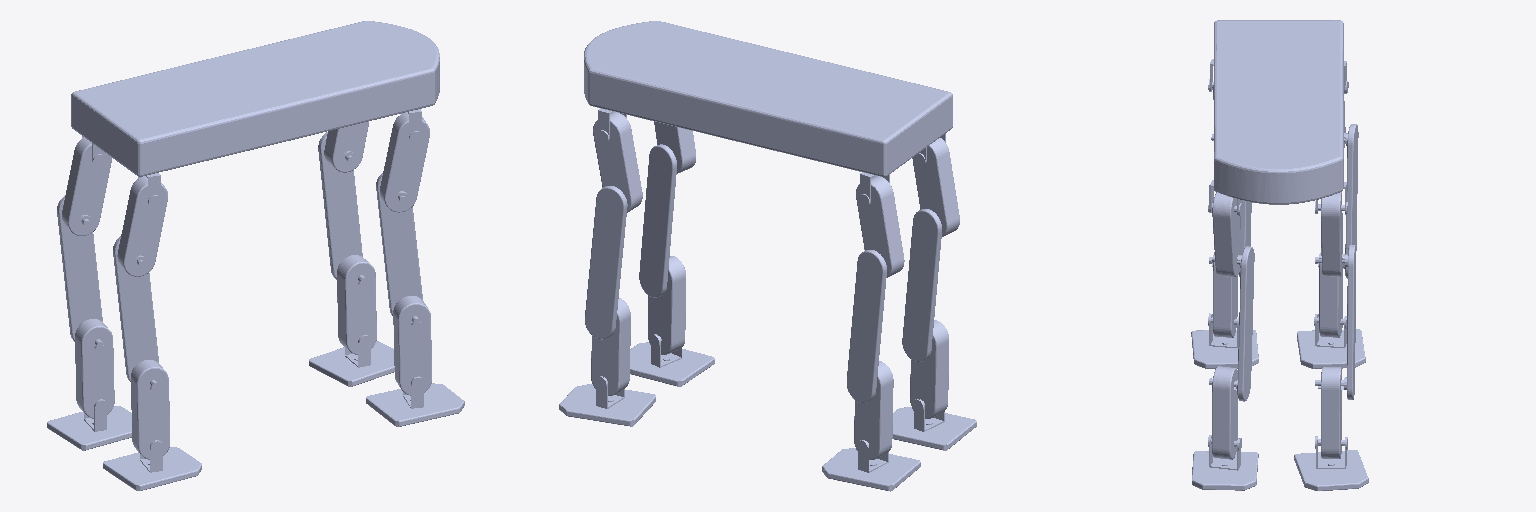
--- What the picture shows (computed from the rendered views, not written in the file) ---
The picture shows the robot from 3 angles, left to right: view 1: azimuth 30°, elevation 25°; view 2: azimuth 150°, elevation 25°; view 3: azimuth 270°, elevation 25°; orthographic projection.
Robot: quad_robot — 26 links, 25 joints (24 revolute, 1 fixed); root link dummy_link; default pose: every joint at zero.
Visible links, largest first — view 1: platform, fl_limb_2, rl_limb_2, rr_limb_2, rr_limb_1, fr_limb_2, fl_leg, rr_leg, rl_leg, fr_leg, fr_limb_1, rl_limb_1 (+5 smaller); view 2: platform, fl_leg, rl_leg, rr_leg, fr_leg, rl_limb_1, fl_limb_1, rr_limb_1, fr_limb_2, rr_limb_2, rl_limb_2, fl_limb_2 (+5 smaller); view 3: platform, fr_limb_2, fr_limb_1, fl_foot, fr_leg, fl_limb_2, fr_foot, fl_limb_1, rl_foot, rr_limb_2, rl_limb_2, rr_foot (+2 smaller).
Link boxes in pixels (x1,y1,x2,y2): platform: [71, 21, 439, 176]; fl_limb_2: [337, 255, 376, 354]; rl_limb_2: [75, 319, 114, 418]; rr_limb_2: [131, 360, 169, 459]; rr_limb_1: [117, 176, 167, 276]; fr_limb_2: [393, 296, 431, 395]; fl_leg: [318, 132, 362, 279]; rr_leg: [113, 236, 158, 381]; rl_leg: [57, 196, 102, 341]; fr_leg: [376, 173, 422, 315]; fr_limb_1: [380, 112, 429, 212]; rl_limb_1: [62, 137, 111, 235]; platform: [584, 21, 952, 176]; fl_leg: [585, 186, 627, 339]; rl_leg: [847, 250, 886, 402]; rr_leg: [902, 209, 941, 361]; fr_leg: [639, 144, 676, 297]; rl_limb_1: [856, 176, 904, 277]; fl_limb_1: [593, 112, 642, 212]; rr_limb_1: [912, 138, 959, 236]; fr_limb_2: [648, 256, 685, 354]; rr_limb_2: [910, 320, 948, 418]; rl_limb_2: [854, 361, 893, 459]; fl_limb_2: [591, 298, 630, 395]; platform: [1214, 20, 1343, 204]; fr_limb_2: [1208, 366, 1241, 459]; fr_limb_1: [1208, 192, 1242, 276]; fl_foot: [1294, 450, 1368, 490]; fr_leg: [1236, 246, 1254, 401]; fl_limb_2: [1315, 367, 1347, 458]; fr_foot: [1192, 451, 1258, 490]; fl_limb_1: [1315, 192, 1347, 276]; rl_foot: [1297, 329, 1365, 368]; rr_limb_2: [1208, 252, 1237, 337]; rl_limb_2: [1314, 257, 1346, 337]; rr_foot: [1191, 330, 1258, 368].
Bounding box of the posed robot: 0.5755 × 0.2724 × 0.547 m (x, y, z).
25 mesh visuals loaded from 25 distinct referenced files (25 binary STL).

URDF robot description (quad_robot):
<?xml version="1.0" encoding="utf-8"?>
<!-- This URDF was automatically created by SolidWorks to URDF Exporter! Originally created by Stephen Brawner ([email redacted]) 
     Commit Version: 1.6.0-1-g15f4949  Build Version: 1.6.7594.29634
     For more information, please see http://wiki.ros.org/sw_urdf_exporter -->
<robot
  name="quad_robot">
  <link name = "dummy_link" />
  <joint 
    name = "dummy_link_to_base_link" 
    type = "fixed">
    <parent link ="dummy_link"/>
    <child link="platform" />
  </joint>
  <link
    name="platform">
    <inertial>
      <origin
        xyz="-0.000404521463038099 1.55559248288251E-07 -0.030004010830296"
        rpy="0 0 0" />
      <mass
        value="6.3842623426896" />
      <inertia
        ixx="0.0225857260546824"
        ixy="6.94010385554055E-07"
        ixz="-4.33144242592857E-07"
        iyy="0.15371694988574"
        iyz="2.00727743475506E-08"
        izz="0.172487203358036" />
    </inertial>
    <visual>
      <origin
        xyz="0 0 0"
        rpy="0 0 0" />
      <geometry>
        <mesh
          filename="package://quad_robot/meshes/platform.STL" />
      </geometry>
      <material
        name="">
        <color
          rgba="0.792156862745098 0.819607843137255 0.933333333333333 1" />
      </material>
    </visual>
    <collision>
      <origin
        xyz="0 0 0"
        rpy="0 0 0" />
      <geometry>
        <mesh
          filename="package://quad_robot/meshes/platform.STL" />
      </geometry>
    </collision>
  </link>
  <link
    name="rr_holder">
    <inertial>
      <origin
        xyz="-0.238494199485119 -0.0815020141321888 -0.0756887494122581"
        rpy="0 0 0" />
      <mass
        value="0.00515488935718906" />
      <inertia
        ixx="3.05807746521344E-06"
        ixy="-3.22157921560896E-07"
        ixz="-5.33264112161002E-12"
        iyy="1.40675274264012E-06"
        iyz="1.00350684957577E-12"
        izz="2.12527288341703E-06" />
    </inertial>
    <visual>
      <origin
        xyz="0 0 0"
        rpy="0 0 0" />
      <geometry>
        <mesh
          filename="package://quad_robot/meshes/rr_holder.STL" />
      </geometry>
      <material
        name="">
        <color
          rgba="0.792156862745098 0.819607843137255 0.933333333333333 1" />
      </material>
    </visual>
    <collision>
      <origin
        xyz="0 0 0"
        rpy="0 0 0" />
      <geometry>
        <mesh
          filename="package://quad_robot/meshes/rr_holder.STL" />
      </geometry>
    </collision>
  </link>
  <joint
    name="rr_h"
    type="revolute">
    <origin
      xyz="0 0 0"
      rpy="0 0 0" />
    <parent
      link="platform" />
    <child
      link="rr_holder" />
    <axis
      xyz="0 0 1" />
    <dynamics damping="5" friction="0.1"/>
    <limit
      lower="-.0802851455917" upper="0.802851455917" effort="100" velocity="52" />
  </joint>
  <link
    name="rr_limb_1">
    <inertial>
      <origin
        xyz="-0.248134188948376 -0.0796879420349015 -0.148924288686999"
        rpy="0 0 0" />
      <mass
        value="0.21296976073602" />
      <inertia
        ixx="0.000360488158606502"
        ixy="6.32513329522903E-06"
        ixz="-5.94227475856886E-05"
        iyy="0.00039290967701394"
        iyz="1.11822890207033E-05"
        izz="6.98952843512656E-05" />
    </inertial>
    <visual>
      <origin
        xyz="0 0 0"
        rpy="0 0 0" />
      <geometry>
        <mesh
          filename="package://quad_robot/meshes/rr_limb_1.STL" />
      </geometry>
      <material
        name="">
        <color
          rgba="0.792156862745098 0.819607843137255 0.933333333333333 1" />
      </material>
    </visual>
    <collision>
      <origin
        xyz="0 0 0"
        rpy="0 0 0" />
      <geometry>
        <mesh
          filename="package://quad_robot/meshes/rr_limb_1.STL" />
      </geometry>
    </collision>
  </link>
  <joint
    name="rr_l_1"
    type="revolute">
    <origin
      xyz="0 0 0"
      rpy="0 0 0" />
    <parent
      link="rr_holder" />
    <child
      link="rr_limb_1" />
    <axis
      xyz="0 1 0" />
    <dynamics damping="5" friction="0.1"/>
    <limit
      lower="-.0802851455917" upper="0.802851455917" effort="100" velocity="52" />
  </joint>
  <link
    name="rr_leg">
    <inertial>
      <origin
        xyz="-0.242181571909094 -0.0504910633303371 -0.297519759504035"
        rpy="0 0 0" />
      <mass
        value="0.121622617658033" />
      <inertia
        ixx="0.000594974818556612"
        ixy="5.15721880625251E-06"
        ixz="5.78616485724682E-05"
        iyy="0.000621409460116157"
        iyz="-1.08881115660724E-05"
        izz="3.07808764841848E-05" />
    </inertial>
    <visual>
      <origin
        xyz="0 0 0"
        rpy="0 0 0" />
      <geometry>
        <mesh
          filename="package://quad_robot/meshes/rr_leg.STL" />
      </geometry>
      <material
        name="">
        <color
          rgba="0.792156862745098 0.819607843137255 0.933333333333333 1" />
      </material>
    </visual>
    <collision>
      <origin
        xyz="0 0 0"
        rpy="0 0 0" />
      <geometry>
        <mesh
          filename="package://quad_robot/meshes/rr_leg.STL" />
      </geometry>
    </collision>
  </link>
  <joint
    name="rr_lg"
    type="revolute">
    <origin
      xyz="0 0 0"
      rpy="0 0 0" />
    <parent
      link="rr_limb_1" />
    <child
      link="rr_leg" />
    <axis
      xyz="0 1 0" />
    <dynamics damping="5" friction="0.1"/>
    <limit
      lower="-.0802851455917" upper="0.802851455917" effort="100" velocity="52" />
  </joint>
  <link
    name="rr_limb_2">
    <inertial>
      <origin
        xyz="-0.236456510749618 -0.0818854703892081 -0.447076797449636"
        rpy="0 0 0" />
      <mass
        value="0.21296976073602" />
      <inertia
        ixx="0.000372044506595302"
        ixy="4.15043709747706E-06"
        ixz="6.95322325328733E-06"
        iyy="0.000393318915603597"
        iyz="-1.30847116977759E-06"
        izz="5.79296977728092E-05" />
    </inertial>
    <visual>
      <origin
        xyz="0 0 0"
        rpy="0 0 0" />
      <geometry>
        <mesh
          filename="package://quad_robot/meshes/rr_limb_2.STL" />
      </geometry>
      <material
        name="">
        <color
          rgba="0.792156862745098 0.819607843137255 0.933333333333333 1" />
      </material>
    </visual>
    <collision>
      <origin
        xyz="0 0 0"
        rpy="0 0 0" />
      <geometry>
        <mesh
          filename="package://quad_robot/meshes/rr_limb_2.STL" />
      </geometry>
    </collision>
  </link>
  <joint
    name="rr_l_2"
    type="revolute">
    <origin
      xyz="0 0 0"
      rpy="0 0 0" />
    <parent
      link="rr_leg" />
    <child
      link="rr_limb_2" />
    <axis
      xyz="0 1 0" />
    <dynamics damping="5" friction="0.1"/>
    <limit
      lower="-.0802851455917" upper="0.802851455917" effort="100" velocity="52" />
  </joint>
  <link
    name="rr_ankle">
    <inertial>
      <origin
        xyz="-0.235348473725713 -0.0820939829664886 -0.521273251123116"
        rpy="0 0 0" />
      <mass
        value="0.00515488935718909" />
      <inertia
        ixx="3.05807746521347E-06"
        ixy="-3.22157921560815E-07"
        ixz="-5.33264111715663E-12"
        iyy="1.4067527426401E-06"
        iyz="1.00350687053264E-12"
        izz="2.12527288341703E-06" />
    </inertial>
    <visual>
      <origin
        xyz="0 0 0"
        rpy="0 0 0" />
      <geometry>
        <mesh
          filename="package://quad_robot/meshes/rr_ankle.STL" />
      </geometry>
      <material
        name="">
        <color
          rgba="0.792156862745098 0.819607843137255 0.933333333333333 1" />
      </material>
    </visual>
    <collision>
      <origin
        xyz="0 0 0"
        rpy="0 0 0" />
      <geometry>
        <mesh
          filename="package://quad_robot/meshes/rr_ankle.STL" />
      </geometry>
    </collision>
  </link>
  <joint
    name="rr_a"
    type="revolute">
    <origin
      xyz="0 0 0"
      rpy="0 0 0" />
    <parent
      link="rr_limb_2" />
    <child
      link="rr_ankle" />
    <axis
      xyz="0 1 0" />
    <dynamics damping="5" friction="0.1"/>
    <limit
      lower="-.0802851455917" upper="0.802851455917" effort="100" velocity="52" />
  </joint>
  <link
    name="rr_foot">
    <inertial>
      <origin
        xyz="-0.23031925599362 -0.0818990173256983 -0.541949434470829"
        rpy="0 0 0" />
      <mass
        value="0.118752898458627" />
      <inertia
        ixx="9.54012922298925E-05"
        ixy="-1.84130352891303E-06"
        ixz="7.49104668898364E-09"
        iyy="0.000142315843287418"
        iyz="2.91535649487141E-10"
        izz="0.000235735578259086" />
    </inertial>
    <visual>
      <origin
        xyz="0 0 0"
        rpy="0 0 0" />
      <geometry>
        <mesh
          filename="package://quad_robot/meshes/rr_foot.STL" />
      </geometry>
      <material
        name="">
        <color
          rgba="0.792156862745098 0.819607843137255 0.933333333333333 1" />
      </material>
    </visual>
    <collision>
      <origin
        xyz="0 0 0"
        rpy="0 0 0" />
      <geometry>
        <mesh
          filename="package://quad_robot/meshes/rr_foot.STL" />
      </geometry>
    </collision>
  </link>
  <joint
    name="rr_f"
    type="revolute">
    <origin
      xyz="0 0 0"
      rpy="0 0 0" />
    <parent
      link="rr_ankle" />
    <child
      link="rr_foot" />
    <axis
      xyz="0 0 1" />
    <dynamics damping="5" friction="0.1"/>
    <limit
      lower="-.0802851455917" upper="0.802851455917" effort="100" velocity="52" />
  </joint>
  <link
    name="rl_holder">
    <inertial>
      <origin
        xyz="-0.238494162584761 0.0814998220732433 -0.0756887494122585"
        rpy="0 0 0" />
      <mass
        value="0.00515488935718906" />
      <inertia
        ixx="3.07166739379566E-06"
        ixy="-2.84885336968667E-07"
        ixz="-5.35376527780618E-12"
        iyy="1.39316281405791E-06"
        iyz="8.83903092806172E-13"
        izz="2.12527288341704E-06" />
    </inertial>
    <visual>
      <origin
        xyz="0 0 0"
        rpy="0 0 0" />
      <geometry>
        <mesh
          filename="package://quad_robot/meshes/rl_holder.STL" />
      </geometry>
      <material
        name="">
        <color
          rgba="0.792156862745098 0.819607843137255 0.933333333333333 1" />
      </material>
    </visual>
    <collision>
      <origin
        xyz="0 0 0"
        rpy="0 0 0" />
      <geometry>
        <mesh
          filename="package://quad_robot/meshes/rl_holder.STL" />
      </geometry>
    </collision>
  </link>
  <joint
    name="rl_h"
    type="revolute">
    <origin
      xyz="0 0 0"
      rpy="0 0 0" />
    <parent
      link="platform" />
    <child
      link="rl_holder" />
    <axis
      xyz="0 0 1" />
    <dynamics damping="5" friction="0.1"/>
    <limit
      lower="-.0802851455917" upper="0.802851455917" effort="100" velocity="52" />
  </joint>
  <link
    name="rl_limb_1">
    <inertial>
      <origin
        xyz="-0.248172338875066 0.0830976825551536 -0.148924288686999"
        rpy="0 0 0" />
      <mass
        value="0.21296976073602" />
      <inertia
        ixx="0.000360221338814089"
        ixy="5.59333671341162E-06"
        ixz="-5.96581385260299E-05"
        iyy="0.000393176496806354"
        iyz="9.84951907374344E-06"
        izz="6.98952843512656E-05" />
    </inertial>
    <visual>
      <origin
        xyz="0 0 0"
        rpy="0 0 0" />
      <geometry>
        <mesh
          filename="package://quad_robot/meshes/rl_limb_1.STL" />
      </geometry>
      <material
        name="">
        <color
          rgba="0.792156862745098 0.819607843137255 0.933333333333333 1" />
      </material>
    </visual>
    <collision>
      <origin
        xyz="0 0 0"
        rpy="0 0 0" />
      <geometry>
        <mesh
          filename="package://quad_robot/meshes/rl_limb_1.STL" />
      </geometry>
    </collision>
  </link>
  <joint
    name="rl_l_1"
    type="revolute">
    <origin
      xyz="0 0 0"
      rpy="0 0 0" />
    <parent
      link="rl_holder" />
    <child
      link="rl_limb_1" />
    <axis
      xyz="0 1 0" />
    <dynamics damping="5" friction="0.1"/>
    <limit
      lower="-.0802851455917" upper="0.802851455917" effort="100" velocity="52" />
  </joint>
  <link
    name="rl_leg">
    <inertial>
      <origin
        xyz="-0.242874685937131 0.112420479938591 -0.29751979335549"
        rpy="0 0 0" />
      <mass
        value="0.121622602465425" />
      <inertia
        ixx="0.000594756948498601"
        ixy="4.5605738995501E-06"
        ixz="5.80908387093824E-05"
        iyy="0.000621626804231193"
        iyz="-9.5903449118726E-06"
        izz="3.07809933348623E-05" />
    </inertial>
    <visual>
      <origin
        xyz="0 0 0"
        rpy="0 0 0" />
      <geometry>
        <mesh
          filename="package://quad_robot/meshes/rl_leg.STL" />
      </geometry>
      <material
        name="">
        <color
          rgba="0.792156862745098 0.819607843137255 0.933333333333333 1" />
      </material>
    </visual>
    <collision>
      <origin
        xyz="0 0 0"
        rpy="0 0 0" />
      <geometry>
        <mesh
          filename="package://quad_robot/meshes/rl_leg.STL" />
      </geometry>
    </collision>
  </link>
  <joint
    name="rl_lg"
    type="revolute">
    <origin
      xyz="0 0 0"
      rpy="0 0 0" />
    <parent
      link="rl_limb_1" />
    <child
      link="rl_leg" />
    <axis
      xyz="0 1 0" />
    <dynamics damping="5" friction="0.1"/>
    <limit
      lower="-.0802851455917" upper="0.802851455917" effort="100" velocity="52" />
  </joint>
  <link
    name="rl_limb_2">
    <inertial>
      <origin
        xyz="-0.236448401966236 0.081162068353018 -0.447076797449636"
        rpy="0 0 0" />
      <mass
        value="0.21296976073602" />
      <inertia
        ixx="0.000371869424314331"
        ixy="3.6702455285071E-06"
        ixz="6.98076701096459E-06"
        iyy="0.000393493997884568"
        iyz="-1.15252000018338E-06"
        izz="5.79296977728093E-05" />
    </inertial>
    <visual>
      <origin
        xyz="0 0 0"
        rpy="0 0 0" />
      <geometry>
        <mesh
          filename="package://quad_robot/meshes/rl_limb_2.STL" />
      </geometry>
      <material
        name="">
        <color
          rgba="0.792156862745098 0.819607843137255 0.933333333333333 1" />
      </material>
    </visual>
    <collision>
      <origin
        xyz="0 0 0"
        rpy="0 0 0" />
      <geometry>
        <mesh
          filename="package://quad_robot/meshes/rl_limb_2.STL" />
      </geometry>
    </collision>
  </link>
  <joint
    name="rl_l_2"
    type="revolute">
    <origin
      xyz="0 0 0"
      rpy="0 0 0" />
    <parent
      link="rl_leg" />
    <child
      link="rl_limb_2" />
    <axis
      xyz="0 1 0" />
    <dynamics damping="5" friction="0.1"/>
    <limit
      lower="-.0802851455917" upper="0.802851455917" effort="100" velocity="52" />
  </joint>
  <link
    name="rl_ankle">
    <inertial>
      <origin
        xyz="-0.235335975682534 0.0809784075119089 -0.521273251123117"
        rpy="0 0 0" />
      <mass
        value="0.0051548893571891" />
      <inertia
        ixx="3.07166739379569E-06"
        ixy="-2.84885336968587E-07"
        ixz="-5.35376527267342E-12"
        iyy="1.39316281405789E-06"
        iyz="8.83903117374331E-13"
        izz="2.12527288341704E-06" />
    </inertial>
    <visual>
      <origin
        xyz="0 0 0"
        rpy="0 0 0" />
      <geometry>
        <mesh
          filename="package://quad_robot/meshes/rl_ankle.STL" />
      </geometry>
      <material
        name="">
        <color
          rgba="0.792156862745098 0.819607843137255 0.933333333333333 1" />
      </material>
    </visual>
    <collision>
      <origin
        xyz="0 0 0"
        rpy="0 0 0" />
      <geometry>
        <mesh
          filename="package://quad_robot/meshes/rl_ankle.STL" />
      </geometry>
    </collision>
  </link>
  <joint
    name="rl_a"
    type="revolute">
    <origin
      xyz="0 0 0"
      rpy="0 0 0" />
    <parent
      link="rl_limb_2" />
    <child
      link="rl_ankle" />
    <axis
      xyz="0 1 0" />
    <dynamics damping="5" friction="0.1"/>
    <limit
      lower="-.0802851455917" upper="0.802851455917" effort="100" velocity="52" />
  </joint>
  <link
    name="rl_foot">
    <inertial>
      <origin
        xyz="-0.230312381371031 0.0812858856319446 -0.541949434469658"
        rpy="0 0 0" />
      <mass
        value="0.118752898459681" />
      <inertia
        ixx="9.55071946950773E-05"
        ixy="-2.88921269314964E-06"
        ixz="7.4826459185112E-09"
        iyy="0.000142209940820079"
        iyz="4.59123379443084E-10"
        izz="0.000235735578255168" />
    </inertial>
    <visual>
      <origin
        xyz="0 0 0"
        rpy="0 0 0" />
      <geometry>
        <mesh
          filename="package://quad_robot/meshes/rl_foot.STL" />
      </geometry>
      <material
        name="">
        <color
          rgba="0.792156862745098 0.819607843137255 0.933333333333333 1" />
      </material>
    </visual>
    <collision>
      <origin
        xyz="0 0 0"
        rpy="0 0 0" />
      <geometry>
        <mesh
          filename="package://quad_robot/meshes/rl_foot.STL" />
      </geometry>
    </collision>
  </link>
  <joint
    name="rl_f"
    type="revolute">
    <origin
      xyz="0 0 0"
      rpy="0 0 0" />
    <parent
      link="rl_ankle" />
    <child
      link="rl_foot" />
    <axis
      xyz="0 0 1" />
    <dynamics damping="5" friction="0.1"/>
    <limit
      lower="-.0802851455917" upper="0.802851455917" effort="100" velocity="52" />
  </joint>
  <link
    name="fr_holder">
    <inertial>
      <origin
        xyz="0.203932342616495 -0.0815026596614342 -0.0756887494122586"
        rpy="0 0 0" />
      <mass
        value="0.00515488935718896" />
      <inertia
        ixx="3.00520628905572E-06"
        ixy="-4.33932996506204E-07"
        ixz="-5.24964970682803E-12"
        iyy="1.45962391879779E-06"
        iyz="1.37304963369888E-12"
        izz="2.125272883417E-06" />
    </inertial>
    <visual>
      <origin
        xyz="0 0 0"
        rpy="0 0 0" />
      <geometry>
        <mesh
          filename="package://quad_robot/meshes/fr_holder.STL" />
      </geometry>
      <material
        name="">
        <color
          rgba="0.792156862745098 0.819607843137255 0.933333333333333 1" />
      </material>
    </visual>
    <collision>
      <origin
        xyz="0 0 0"
        rpy="0 0 0" />
      <geometry>
        <mesh
          filename="package://quad_robot/meshes/fr_holder.STL" />
      </geometry>
    </collision>
  </link>
  <joint
    name="fr_h"
    type="revolute">
    <origin
      xyz="0 0 0"
      rpy="0 0 0" />
    <parent
      link="platform" />
    <child
      link="fr_holder" />
    <axis
      xyz="0 0 1" />
    <dynamics damping="5" friction="0.1"/>
    <limit
      lower="-.0802851455917" upper="0.802851455917" effort="100" velocity="52" />
  </joint>
  <link
    name="fr_limb_1">
    <inertial>
      <origin
        xyz="0.194442379441527 -0.079020553023187 -0.148924288686999"
        rpy="0 0 0" />
      <mass
        value="0.21296976073602" />
      <inertia
        ixx="0.000361526212350619"
        ixy="8.51968509978573E-06"
        ixz="-5.84979567138807E-05"
        iyy="0.000391871623269825"
        iyz="1.53001823085856E-05"
        izz="6.98952843512657E-05" />
    </inertial>
    <visual>
      <origin
        xyz="0 0 0"
        rpy="0 0 0" />
      <geometry>
        <mesh
          filename="package://quad_robot/meshes/fr_limb_1.STL" />
      </geometry>
      <material
        name="">
        <color
          rgba="0.792156862745098 0.819607843137255 0.933333333333333 1" />
      </material>
    </visual>
    <collision>
      <origin
        xyz="0 0 0"
        rpy="0 0 0" />
      <geometry>
        <mesh
          filename="package://quad_robot/meshes/fr_limb_1.STL" />
      </geometry>
    </collision>
  </link>
  <joint
    name="fr_l_1"
    type="revolute">
    <origin
      xyz="0 0 0"
      rpy="0 0 0" />
    <parent
      link="fr_holder" />
    <child
      link="fr_limb_1" />
    <axis
      xyz="0 1 0" />
    <dynamics damping="5" friction="0.1"/>
    <limit
      lower="-.0802851455917" upper="0.802851455917" effort="100" velocity="52" />
  </joint>
  <link
    name="fr_leg">
    <inertial>
      <origin
        xyz="0.202417185237618 -0.0503100458690355 -0.297519649158803"
        rpy="0 0 0" />
      <mass
        value="0.121622666627107" />
      <inertia
        ixx="0.000595822205237659"
        ixy="6.94643414377528E-06"
        ixz="5.69611988815209E-05"
        iyy="0.000620563769201878"
        iyz="-1.48978616718951E-05"
        izz="3.07805003908677E-05" />
    </inertial>
    <visual>
      <origin
        xyz="0 0 0"
        rpy="0 0 0" />
      <geometry>
        <mesh
          filename="package://quad_robot/meshes/fr_leg.STL" />
      </geometry>
      <material
        name="">
        <color
          rgba="0.792156862745098 0.819607843137255 0.933333333333333 1" />
      </material>
    </visual>
    <collision>
      <origin
        xyz="0 0 0"
        rpy="0 0 0" />
      <geometry>
        <mesh
          filename="package://quad_robot/meshes/fr_leg.STL" />
      </geometry>
    </collision>
  </link>
  <joint
    name="fr_lg"
    type="revolute">
    <origin
      xyz="0 0 0"
      rpy="0 0 0" />
    <parent
      link="fr_limb_1" />
    <child
      link="fr_leg" />
    <axis
      xyz="0 1 0" />
    <dynamics damping="5" friction="0.1"/>
    <limit
      lower="-.0802851455917" upper="0.802851455917" effort="100" velocity="52" />
  </joint>
  <link
    name="fr_limb_2">
    <inertial>
      <origin
        xyz="0.205938318985629 -0.0820273242117023 -0.447076797449636"
        rpy="0 0 0" />
      <mass
        value="0.21296976073602" />
      <inertia
        ixx="0.000372725658528021"
        ixy="5.59046196285525E-06"
        ixz="6.84501086568127E-06"
        iyy="0.000392637763670877"
        iyz="-1.79031747489102E-06"
        izz="5.79296977728094E-05" />
    </inertial>
    <visual>
      <origin
        xyz="0 0 0"
        rpy="0 0 0" />
      <geometry>
        <mesh
          filename="package://quad_robot/meshes/fr_limb_2.STL" />
      </geometry>
      <material
        name="">
        <color
          rgba="0.792156862745098 0.819607843137255 0.933333333333333 1" />
      </material>
    </visual>
    <collision>
      <origin
        xyz="0 0 0"
        rpy="0 0 0" />
      <geometry>
        <mesh
          filename="package://quad_robot/meshes/fr_limb_2.STL" />
      </geometry>
    </collision>
  </link>
  <joint
    name="fr_l_2"
    type="revolute">
    <origin
      xyz="0 0 0"
      rpy="0 0 0" />
    <parent
      link="fr_leg" />
    <child
      link="fr_limb_2" />
    <axis
      xyz="0 1 0" />
    <dynamics damping="5" friction="0.1"/>
    <limit
      lower="-.0802851455917" upper="0.802851455917" effort="100" velocity="52" />
  </joint>
  <link
    name="fr_ankle">
    <inertial>
      <origin
        xyz="0.207029111729068 -0.0823126218318973 -0.521273251123117"
        rpy="0 0 0" />
      <mass
        value="0.00515488935718909" />
      <inertia
        ixx="3.0052062890558E-06"
        ixy="-4.33932996506133E-07"
        ixz="-5.24964970222134E-12"
        iyy="1.45962391879777E-06"
        iyz="1.37304964079705E-12"
        izz="2.12527288341703E-06" />
    </inertial>
    <visual>
      <origin
        xyz="0 0 0"
        rpy="0 0 0" />
      <geometry>
        <mesh
          filename="package://quad_robot/meshes/fr_ankle.STL" />
      </geometry>
      <material
        name="">
        <color
          rgba="0.792156862745098 0.819607843137255 0.933333333333333 1" />
      </material>
    </visual>
    <collision>
      <origin
        xyz="0 0 0"
        rpy="0 0 0" />
      <geometry>
        <mesh
          filename="package://quad_robot/meshes/fr_ankle.STL" />
      </geometry>
    </collision>
  </link>
  <joint
    name="fr_a"
    type="revolute">
    <origin
      xyz="0 0 0"
      rpy="0 0 0" />
    <parent
      link="fr_limb_2" />
    <child
      link="fr_ankle" />
    <axis
      xyz="0 1 0" />
    <dynamics damping="5" friction="0.1"/>
    <limit
      lower="-.0802851455917" upper="0.802851455917" effort="100" velocity="52" />
  </joint>
  <link
    name="fr_foot">
    <inertial>
      <origin
        xyz="0.212059678623147 -0.0824689525968437 -0.541949434474741"
        rpy="0 0 0" />
      <mass
        value="0.11875289846178" />
      <inertia
        ixx="9.53733174678496E-05"
        ixy="1.44124688472087E-06"
        ixz="7.49313297943832E-09"
        iyy="0.000142343818059201"
        iyz="-2.31724904842528E-10"
        izz="0.000235735578270093" />
    </inertial>
    <visual>
      <origin
        xyz="0 0 0"
        rpy="0 0 0" />
      <geometry>
        <mesh
          filename="package://quad_robot/meshes/fr_foot.STL" />
      </geometry>
      <material
        name="">
        <color
          rgba="0.792156862745098 0.819607843137255 0.933333333333333 1" />
      </material>
    </visual>
    <collision>
      <origin
        xyz="0 0 0"
        rpy="0 0 0" />
      <geometry>
        <mesh
          filename="package://quad_robot/meshes/fr_foot.STL" />
      </geometry>
    </collision>
  </link>
  <joint
    name="fr_f"
    type="revolute">
    <origin
      xyz="0 0 0"
      rpy="0 0 0" />
    <parent
      link="fr_ankle" />
    <child
      link="fr_foot" />
    <axis
      xyz="0 0 1" />
    <dynamics damping="5" friction="0.1"/>
    <limit
      lower="-.0802851455917" upper="0.802851455917" effort="100" velocity="52" />
  </joint>
  <link
    name="fl_holder">
    <inertial>
      <origin
        xyz="0.203932629848036 0.0815007318597151 -0.075688749412258"
        rpy="0 0 0" />
      <mass
        value="0.00515488935718911" />
      <inertia
        ixx="3.11076550435148E-06"
        ixy="-1.18341181943071E-07"
        ixz="-5.41407965390396E-12"
        iyy="1.35406470350209E-06"
        iyz="3.63082356285333E-13"
        izz="2.12527288341704E-06" />
    </inertial>
    <visual>
      <origin
        xyz="0 0 0"
        rpy="0 0 0" />
      <geometry>
        <mesh
          filename="package://quad_robot/meshes/fl_holder.STL" />
      </geometry>
      <material
        name="">
        <color
          rgba="0.792156862745098 0.819607843137255 0.933333333333333 1" />
      </material>
    </visual>
    <collision>
      <origin
        xyz="0 0 0"
        rpy="0 0 0" />
      <geometry>
        <mesh
          filename="package://quad_robot/meshes/fl_holder.STL" />
      </geometry>
    </collision>
  </link>
  <joint
    name="fl_h"
    type="revolute">
    <origin
      xyz="0 0 0"
      rpy="0 0 0" />
    <parent
      link="platform" />
    <child
      link="fl_holder" />
    <axis
      xyz="0 0 1" />
    <dynamics damping="5" friction="0.1"/>
    <limit
      lower="-.0802851455917" upper="0.802851455917" effort="100" velocity="52" />
  </joint>
  <link
    name="fl_limb_1">
    <inertial>
      <origin
        xyz="0.194145421285326 0.0821570876899501 -0.148924288686999"
        rpy="0 0 0" />
      <mass
        value="0.21296976073602" />
      <inertia
        ixx="0.000359453700509066"
        ixy="2.32346839859645E-06"
        ixz="-6.03302344060178E-05"
        iyy="0.000393944135111378"
        iyz="4.04590347017151E-06"
        izz="6.98952843512656E-05" />
    </inertial>
    <visual>
      <origin
        xyz="0 0 0"
        rpy="0 0 0" />
      <geometry>
        <mesh
          filename="package://quad_robot/meshes/fl_limb_1.STL" />
      </geometry>
      <material
        name="">
        <color
          rgba="0.792156862745098 0.819607843137255 0.933333333333333 1" />
      </material>
    </visual>
    <collision>
      <origin
        xyz="0 0 0"
        rpy="0 0 0" />
      <geometry>
        <mesh
          filename="package://quad_robot/meshes/fl_limb_1.STL" />
      </geometry>
    </collision>
  </link>
  <joint
    name="fl_l_1"
    type="revolute">
    <origin
      xyz="0 0 0"
      rpy="0 0 0" />
    <parent
      link="fl_holder" />
    <child
      link="fl_limb_1" />
    <axis
      xyz="0 1 0" />
    <dynamics damping="5" friction="0.1"/>
    <limit
      lower="-.0802851455917" upper="0.802851455917" effort="100" velocity="52" />
  </joint>
  <link
    name="fl_leg">
    <inertial>
      <origin
        xyz="0.196588371962614 0.1118542993698 -0.297519928854198"
        rpy="0 0 0" />
      <mass
        value="0.121622540664617" />
      <inertia
        ixx="0.000594129740435856"
        ixy="1.89453609696883E-06"
        ixz="5.87451952077487E-05"
        iyy="0.000622251874070563"
        iyz="-3.93916703222372E-06"
        izz="3.0781469885403E-05" />
    </inertial>
    <visual>
      <origin
        xyz="0 0 0"
        rpy="0 0 0" />
      <geometry>
        <mesh
          filename="package://quad_robot/meshes/fl_leg.STL" />
      </geometry>
      <material
        name="">
        <color
          rgba="0.792156862745098 0.819607843137255 0.933333333333333 1" />
      </material>
    </visual>
    <collision>
      <origin
        xyz="0 0 0"
        rpy="0 0 0" />
      <geometry>
        <mesh
          filename="package://quad_robot/meshes/fl_leg.STL" />
      </geometry>
    </collision>
  </link>
  <joint
    name="fl_lg"
    type="revolute">
    <origin
      xyz="0 0 0"
      rpy="0 0 0" />
    <parent
      link="fl_limb_1" />
    <child
      link="fl_leg" />
    <axis
      xyz="0 1 0" />
    <dynamics damping="5" friction="0.1"/>
    <limit
      lower="-.0802851455917" upper="0.802851455917" effort="100" velocity="52" />
  </joint>
  <link
    name="fl_limb_2">
    <inertial>
      <origin
        xyz="0.206001437569886 0.0813619921975911 -0.447076797449636"
        rpy="0 0 0" />
      <mass
        value="0.21296976073602" />
      <inertia
        ixx="0.000371365714060348"
        ixy="1.52461758294224E-06"
        ixz="7.0594108450374E-06"
        iyy="0.000393997708138551"
        iyz="-4.73422573567157E-07"
        izz="5.79296977728094E-05" />
    </inertial>
    <visual>
      <origin
        xyz="0 0 0"
        rpy="0 0 0" />
      <geometry>
        <mesh
          filename="package://quad_robot/meshes/fl_limb_2.STL" />
      </geometry>
      <material
        name="">
        <color
          rgba="0.792156862745098 0.819607843137255 0.933333333333333 1" />
      </material>
    </visual>
    <collision>
      <origin
        xyz="0 0 0"
        rpy="0 0 0" />
      <geometry>
        <mesh
          filename="package://quad_robot/meshes/fl_limb_2.STL" />
      </geometry>
    </collision>
  </link>
  <joint
    name="fl_l_2"
    type="revolute">
    <origin
      xyz="0 0 0"
      rpy="0 0 0" />
    <parent
      link="fl_leg" />
    <child
      link="fl_limb_2" />
    <axis
      xyz="0 1 0" />
    <dynamics damping="5" friction="0.1"/>
    <limit
      lower="-.0802851455917" upper="0.802851455917" effort="100" velocity="52" />
  </joint>
  <link
    name="fl_ankle">
    <inertial>
      <origin
        xyz="0.207126396211129 0.0812865495258289 -0.521273251123117"
        rpy="0 0 0" />
      <mass
        value="0.00515488935718912" />
      <inertia
        ixx="3.1107655043515E-06"
        ixy="-1.18341181942986E-07"
        ixz="-5.41407965356073E-12"
        iyy="1.35406470350209E-06"
        iyz="3.63082378348247E-13"
        izz="2.12527288341704E-06" />
    </inertial>
    <visual>
      <origin
        xyz="0 0 0"
        rpy="0 0 0" />
      <geometry>
        <mesh
          filename="package://quad_robot/meshes/fl_ankle.STL" />
      </geometry>
      <material
        name="">
        <color
          rgba="0.792156862745098 0.819607843137255 0.933333333333333 1" />
      </material>
    </visual>
    <collision>
      <origin
        xyz="0 0 0"
        rpy="0 0 0" />
      <geometry>
        <mesh
          filename="package://quad_robot/meshes/fl_ankle.STL" />
      </geometry>
    </collision>
  </link>
  <joint
    name="fl_a"
    type="revolute">
    <origin
      xyz="0 0 0"
      rpy="0 0 0" />
    <parent
      link="fl_limb_2" />
    <child
      link="fl_ankle" />
    <axis
      xyz="0 1 0" />
    <dynamics damping="5" friction="0.1"/>
    <limit
      lower="-.0802851455917" upper="0.802851455917" effort="100" velocity="52" />
  </joint>
  <link
    name="fl_foot">
    <inertial>
      <origin
        xyz="0.212096865337528 0.0820774220020982 -0.541949434465365"
        rpy="0 0 0" />
      <mass
        value="0.118752898465877" />
      <inertia
        ixx="9.64972726830019E-05"
        ixy="-7.32165667997801E-06"
        ixz="7.40340907600652E-09"
        iyy="0.00014121986282517"
        iyz="1.17913480696302E-09"
        izz="0.00023573557824011" />
    </inertial>
    <visual>
      <origin
        xyz="0 0 0"
        rpy="0 0 0" />
      <geometry>
        <mesh
          filename="package://quad_robot/meshes/fl_foot.STL" />
      </geometry>
      <material
        name="">
        <color
          rgba="0.792156862745098 0.819607843137255 0.933333333333333 1" />
      </material>
    </visual>
    <collision>
      <origin
        xyz="0 0 0"
        rpy="0 0 0" />
      <geometry>
        <mesh
          filename="package://quad_robot/meshes/fl_foot.STL" />
      </geometry>
    </collision>
  </link>
  <joint
    name="fl_f"
    type="revolute">
    <origin
      xyz="0 0 0"
      rpy="0 0 0" />
    <parent
      link="fl_ankle" />
    <child
      link="fl_foot" />
    <axis
      xyz="0 0 1" />
    <dynamics damping="5" friction="0.1"/>
    <limit
      lower="-.0802851455917" upper="0.802851455917" effort="100" velocity="52" />
  </joint>

  <!--RR Controllers ..................................................................... -->
  <!--rr_Holder_link Controller-->
  <transmission name="rr_holder_trans">
    <type>transmission_interface/SimpleTransmission</type>
    <joint name="rr_h">
      <hardwareInterface>hardware_interface/EffortJointInterface</hardwareInterface>
    </joint>
    <actuator name="rr_holder_motor">
      <hardwareInterface>hardware_interface/EffortJointInterface</hardwareInterface>
      <mechanicalReduction>1</mechanicalReduction>
    </actuator>
  </transmission>

  <!--rr_limb_1 Controller-->
  <transmission name="rr_limb_1_trans">
    <type>transmission_interface/SimpleTransmission</type>
    <joint name="rr_l_1">
    <hardwareInterface>hardware_interface/EffortJointInterface</hardwareInterface>
      </joint>
      <actuator name="rr_limb_1_motor">
        <hardwareInterface>hardware_interface/EffortJointInterface</hardwareInterface>
        <mechanicalReduction>1</mechanicalReduction>
      </actuator>
  </transmission>

<!--rr_leg_link Controller-->
  <transmission name="rr_leg_trans">
    <type>transmission_interface/SimpleTransmission</type>
    <joint name="rr_lg">
      <hardwareInterface>hardware_interface/EffortJointInterface</hardwareInterface>
    </joint>
    <actuator name="rr_leg_motor">
      <hardwareInterface>hardware_interface/EffortJointInterface</hardwareInterface>
      <mechanicalReduction>1</mechanicalReduction>
    </actuator>
  </transmission>

<!--rr_limb_2 Controller-->
  <transmission name="rr_limb_2_tran">
    <type>transmission_interface/SimpleTransmission</type>
    <joint name="rr_l_2">
      <hardwareInterface>hardware_interface/EffortJointInterface</hardwareInterface>
    </joint>
    <actuator name="rr_limb_2_motor">
      <hardwareInterface>hardware_interface/EffortJointInterface</hardwareInterface>
      <mechanicalReduction>1</mechanicalReduction>
    </actuator>
  </transmission>

<!--rr_ankle Controller-->
  <transmission name="rr_ankle_tran">
    <type>transmission_interface/SimpleTransmission</type>
    <joint name="rr_a">
      <hardwareInterface>hardware_interface/EffortJointInterface</hardwareInterface>
    </joint>
    <actuator name="rr_ankle_motor">
      <hardwareInterface>hardware_interface/EffortJointInterface</hardwareInterface>
      <mechanicalReduction>1</mechanicalReduction>
    </actuator>
  </transmission>

<!--rr_foot Controller-->
  <transmission name="rr_foot_tran">
        <type>transmission_interface/SimpleTransmission</type>
        <joint name="rr_f">
        <hardwareInterface>hardware_interface/EffortJointInterface</hardwareInterface>
        </joint>
        <actuator name="rr_foot_motor">
        <hardwareInterface>hardware_interface/EffortJointInterface</hardwareInterface>
        <mechanicalReduction>1</mechanicalReduction>
        </actuator>
  </transmission> 


<!--RL Controllers ..................................................................... --> 
<!--rl_Holder_link Controller-->
  <transmission name="rl_holder_trans">
    <type>transmission_interface/SimpleTransmission</type>
    <joint name="rl_h">
      <hardwareInterface>hardware_interface/EffortJointInterface</hardwareInterface>
    </joint>
    <actuator name="rl_holder_motor">
      <hardwareInterface>hardware_interface/EffortJointInterface</hardwareInterface>
      <mechanicalReduction>1</mechanicalReduction>
    </actuator>
  </transmission>

  <!--rl_limb_1 Controller-->
  <transmission name="rl_limb_1_trans">
    <type>transmission_interface/SimpleTransmission</type>
    <joint name="rl_l_1">
    <hardwareInterface>hardware_interface/EffortJointInterface</hardwareInterface>
      </joint>
      <actuator name="rl_limb_1_motor">
        <hardwareInterface>hardware_interface/EffortJointInterface</hardwareInterface>
        <mechanicalReduction>1</mechanicalReduction>
      </actuator>
  </transmission>

<!--rl_leg_link Controller-->
  <transmission name="rl_leg_trans">
    <type>transmission_interface/SimpleTransmission</type>
    <joint name="rl_lg">
      <hardwareInterface>hardware_interface/EffortJointInterface</hardwareInterface>
    </joint>
    <actuator name="rl_leg_motor">
      <hardwareInterface>hardware_interface/EffortJointInterface</hardwareInterface>
      <mechanicalReduction>1</mechanicalReduction>
    </actuator>
  </transmission>

<!--rl_limb_2 Controller-->
  <transmission name="rl_limb_2_tran">
    <type>transmission_interface/SimpleTransmission</type>
    <joint name="rl_l_2">
      <hardwareInterface>hardware_interface/EffortJointInterface</hardwareInterface>
    </joint>
    <actuator name="rl_limb_2_motor">
      <hardwareInterface>hardware_interface/EffortJointInterface</hardwareInterface>
      <mechanicalReduction>1</mechanicalReduction>
    </actuator>
  </transmission>

<!--rl_ankle Controller-->
  <transmission name="rl_ankle_tran">
    <type>transmission_interface/SimpleTransmission</type>
    <joint name="rl_a">
      <hardwareInterface>hardware_interface/EffortJointInterface</hardwareInterface>
    </joint>
    <actuator name="rl_ankle_motor">
      <hardwareInterface>hardware_interface/EffortJointInterface</hardwareInterface>
      <mechanicalReduction>1</mechanicalReduction>
    </actuator>
  </transmission>

<!--rl_foot Controller-->
  <transmission name="rl_foot_tran">
        <type>transmission_interface/SimpleTransmission</type>
        <joint name="rl_f">
        <hardwareInterface>hardware_interface/EffortJointInterface</hardwareInterface>
        </joint>
        <actuator name="rl_foot_motor">
        <hardwareInterface>hardware_interface/EffortJointInterface</hardwareInterface>
        <mechanicalReduction>1</mechanicalReduction>
        </actuator>
  </transmission> 

<!--FR Controllers ..................................................................... -->
  <!--fr_Holder_link Controller-->
  <transmission name="fr_holder_trans">
    <type>transmission_interface/SimpleTransmission</type>
    <joint name="fr_h">
      <hardwareInterface>hardware_interface/EffortJointInterface</hardwareInterface>
    </joint>
    <actuator name="fr_holder_motor">
      <hardwareInterface>hardware_interface/EffortJointInterface</hardwareInterface>
      <mechanicalReduction>1</mechanicalReduction>
    </actuator>
  </transmission>

  <!--fr_limb_1 Controller-->
  <transmission name="fr_limb_1_trans">
    <type>transmission_interface/SimpleTransmission</type>
    <joint name="fr_l_1">
    <hardwareInterface>hardware_interface/EffortJointInterface</hardwareInterface>
      </joint>
      <actuator name="fr_limb_1_motor">
        <hardwareInterface>hardware_interface/EffortJointInterface</hardwareInterface>
        <mechanicalReduction>1</mechanicalReduction>
      </actuator>
  </transmission>

<!--fr_leg_link Controller-->
  <transmission name="fr_leg_trans">
    <type>transmission_interface/SimpleTransmission</type>
    <joint name="fr_lg">
      <hardwareInterface>hardware_interface/EffortJointInterface</hardwareInterface>
    </joint>
    <actuator name="fr_leg_motor">
      <hardwareInterface>hardware_interface/EffortJointInterface</hardwareInterface>
      <mechanicalReduction>1</mechanicalReduction>
    </actuator>
  </transmission>

<!--fr_limb_2 Controller-->
  <transmission name="fr_limb_2_tran">
    <type>transmission_interface/SimpleTransmission</type>
    <joint name="fr_l_2">
      <hardwareInterface>hardware_interface/EffortJointInterface</hardwareInterface>
    </joint>
    <actuator name="fr_limb_2_motor">
      <hardwareInterface>hardware_interface/EffortJointInterface</hardwareInterface>
      <mechanicalReduction>1</mechanicalReduction>
    </actuator>
  </transmission>

<!--fr_ankle Controller-->
  <transmission name="fr_ankle_tran">
    <type>transmission_interface/SimpleTransmission</type>
    <joint name="fr_a">
      <hardwareInterface>hardware_interface/EffortJointInterface</hardwareInterface>
    </joint>
    <actuator name="fr_ankle_motor">
      <hardwareInterface>hardware_interface/EffortJointInterface</hardwareInterface>
      <mechanicalReduction>1</mechanicalReduction>
    </actuator>
  </transmission>

<!--fr_foot Controller-->
  <transmission name="fr_foot_tran">
        <type>transmission_interface/SimpleTransmission</type>
        <joint name="fr_f">
        <hardwareInterface>hardware_interface/EffortJointInterface</hardwareInterface>
        </joint>
        <actuator name="fr_foot_motor">
        <hardwareInterface>hardware_interface/EffortJointInterface</hardwareInterface>
        <mechanicalReduction>1</mechanicalReduction>
        </actuator>
  </transmission> 


<!--FL Controllers ..................................................................... --> 
<!--fl_Holder_link Controller-->
  <transmission name="fl_holder_trans">
    <type>transmission_interface/SimpleTransmission</type>
    <joint name="fl_h">
      <hardwareInterface>hardware_interface/EffortJointInterface</hardwareInterface>
    </joint>
    <actuator name="fr_holder_motor">
      <hardwareInterface>hardware_interface/EffortJointInterface</hardwareInterface>
      <mechanicalReduction>1</mechanicalReduction>
    </actuator>
  </transmission>

  <!--fl_limb_1 Controller-->
  <transmission name="fl_limb_1_trans">
    <type>transmission_interface/SimpleTransmission</type>
    <joint name="fl_l_1">
    <hardwareInterface>hardware_interface/EffortJointInterface</hardwareInterface>
      </joint>
      <actuator name="fl_limb_1_motor">
        <hardwareInterface>hardware_interface/EffortJointInterface</hardwareInterface>
        <mechanicalReduction>1</mechanicalReduction>
      </actuator>
  </transmission>

<!--fl_leg_link Controller-->
  <transmission name="fl_leg_trans">
    <type>transmission_interface/SimpleTransmission</type>
    <joint name="fl_lg">
      <hardwareInterface>hardware_interface/EffortJointInterface</hardwareInterface>
    </joint>
    <actuator name="fr_leg_motor">
      <hardwareInterface>hardware_interface/EffortJointInterface</hardwareInterface>
      <mechanicalReduction>1</mechanicalReduction>
    </actuator>
  </transmission>

<!--fl_limb_2 Controller-->
  <transmission name="fl_limb_2_tran">
    <type>transmission_interface/SimpleTransmission</type>
    <joint name="fl_l_2">
      <hardwareInterface>hardware_interface/EffortJointInterface</hardwareInterface>
    </joint>
    <actuator name="fl_limb_2_motor">
      <hardwareInterface>hardware_interface/EffortJointInterface</hardwareInterface>
      <mechanicalReduction>1</mechanicalReduction>
    </actuator>
  </transmission>

<!--fl_ankle Controller-->
  <transmission name="fl_ankle_trans">
    <type>transmission_interface/SimpleTransmission</type>
    <joint name="fl_a">
      <hardwareInterface>hardware_interface/EffortJointInterface</hardwareInterface>
    </joint>
    <actuator name="fl_ankle_motor">
      <hardwareInterface>hardware_interface/EffortJointInterface</hardwareInterface>
      <mechanicalReduction>1</mechanicalReduction>
    </actuator>
  </transmission>

<!--fl_foot Controller-->
  <transmission name="fl_foot_tran">
        <type>transmission_interface/SimpleTransmission</type>
        <joint name="fl_f">
        <hardwareInterface>hardware_interface/EffortJointInterface</hardwareInterface>
        </joint>
        <actuator name="fl_foot_motor">
        <hardwareInterface>hardware_interface/EffortJointInterface</hardwareInterface>
        <mechanicalReduction>1</mechanicalReduction>
        </actuator>
  </transmission> 
</robot>

<!--EffortJointInterface-->
<!--PositionJointInterface-->
